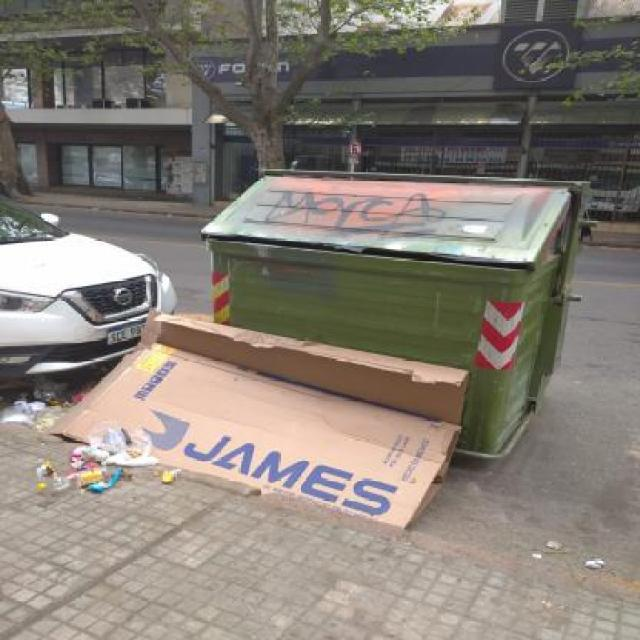garbage: (23, 311, 639, 502)
